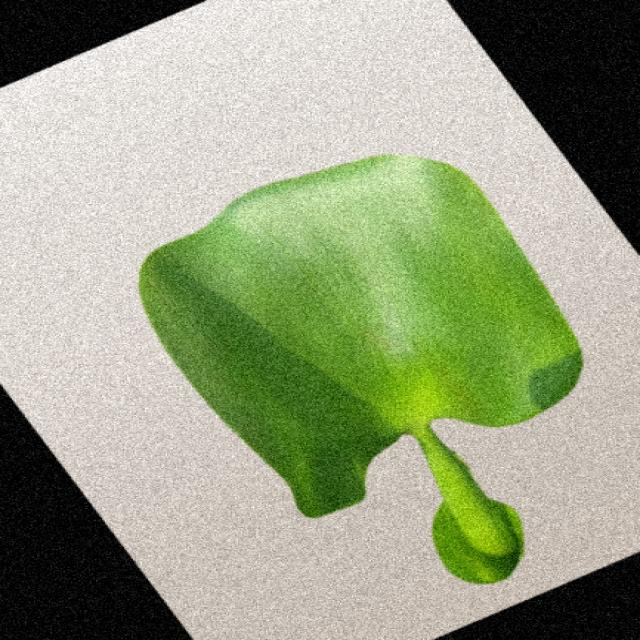daun sehat: (140, 155, 581, 583)
